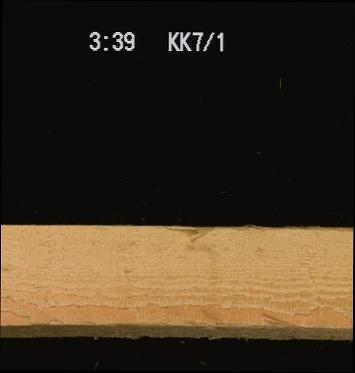split: (186, 224, 220, 242)
